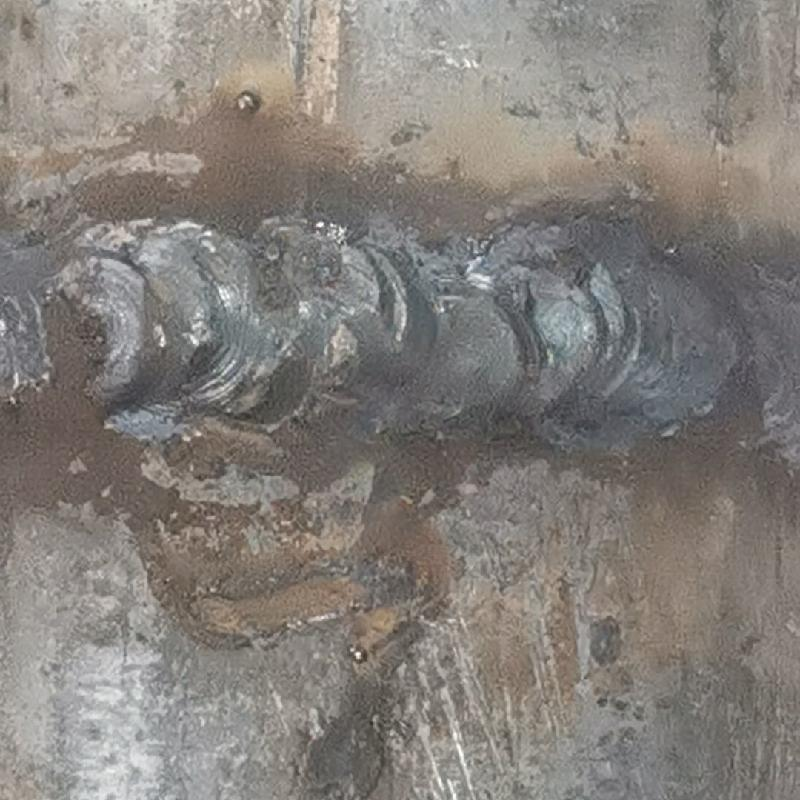good: (12, 237, 799, 427)
